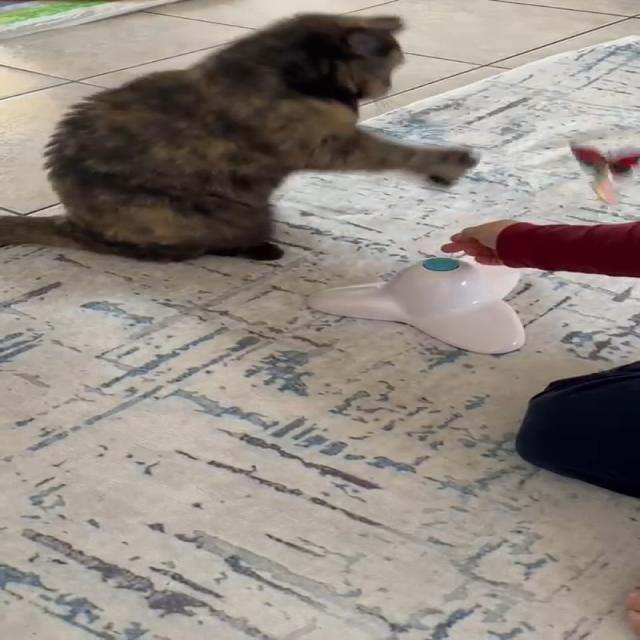authorized: (0, 11, 480, 262)
